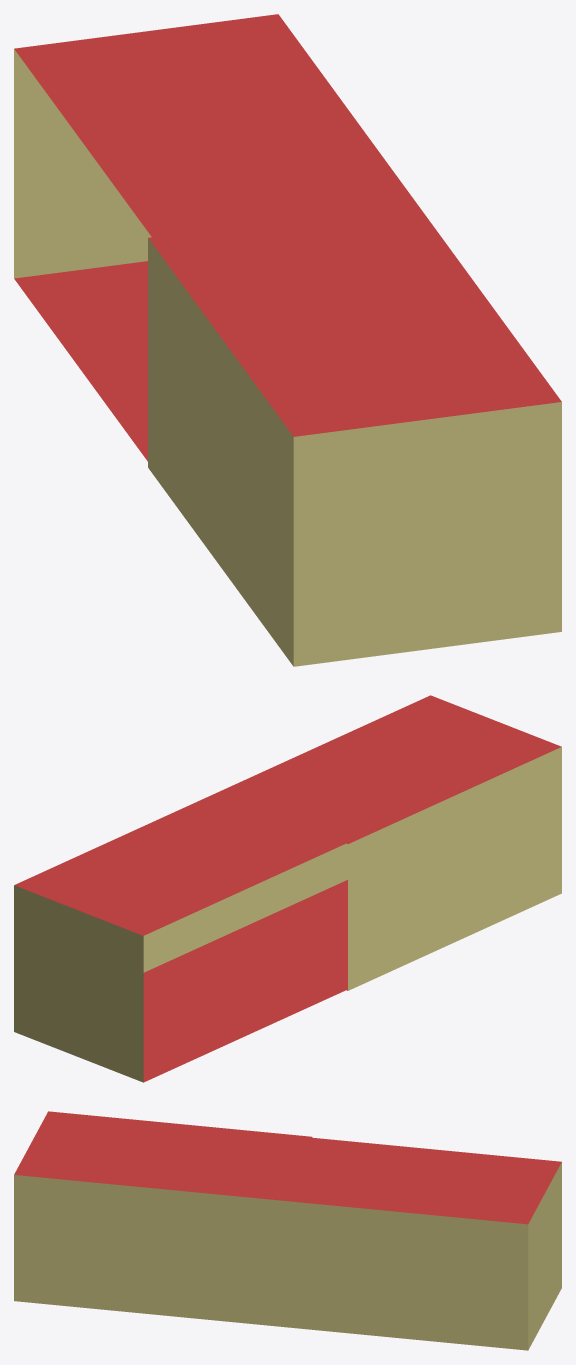
3 renders of one model, top to bottom at view 1: azimuth 30°, elevation 25°; view 2: azimuth 150°, elevation 25°; view 3: azimuth 270°, elevation 25°, orthographic. The views are drawn at different scales.
Bounding box in the file's own units: 10.48 × 21.47 × 5.46.
